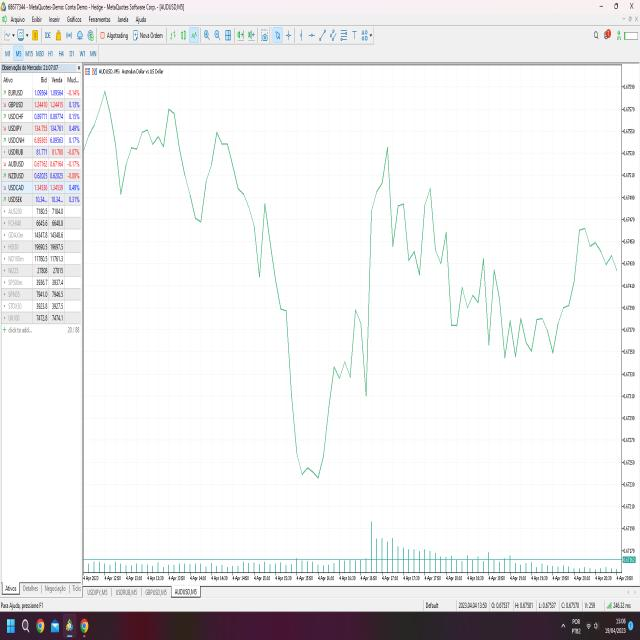bandeira_alta: (323, 289, 352, 487)
